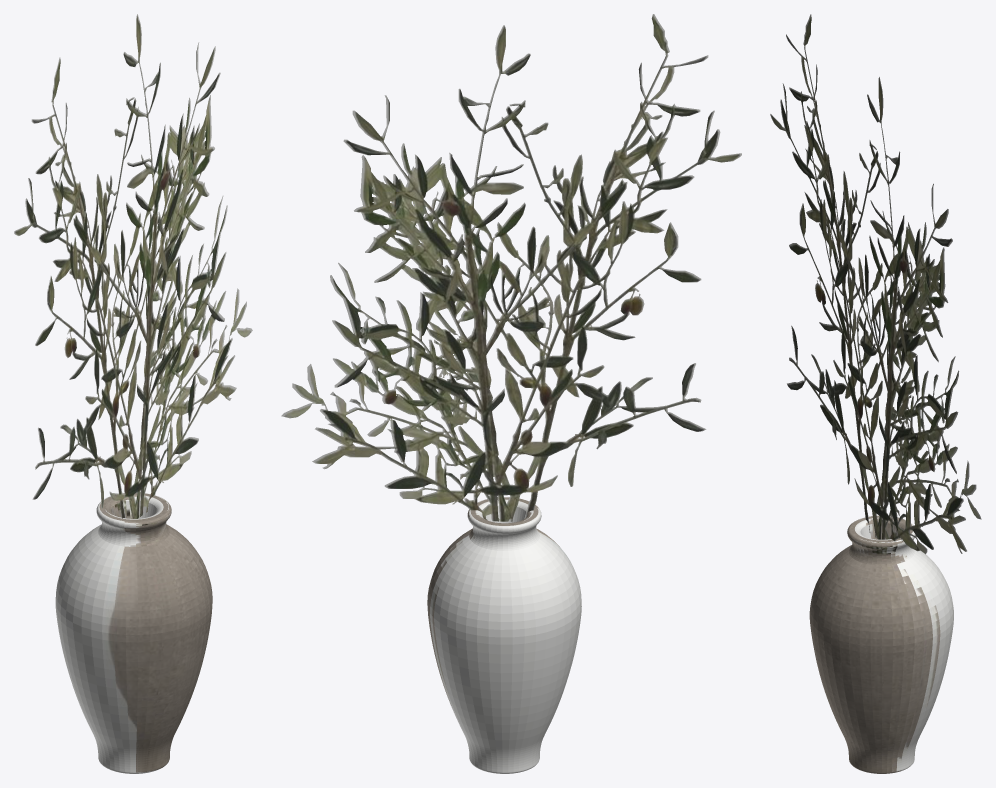
The model's file is flower_pot_12.glb.
3 renders of one model, left to right at view 1: azimuth 30°, elevation 25°; view 2: azimuth 150°, elevation 25°; view 3: azimuth 270°, elevation 25°, orthographic. The views are drawn at different scales.
Parts seen in each view (by area): view 1: mesh_0_ROOT__Plant__plant_04.dxf_Layer0, mesh_1_ROOT__Base_Layer0_227_227_222_ss; view 2: mesh_0_ROOT__Plant__plant_04.dxf_Layer0, mesh_1_ROOT__Base_Layer0_227_227_222_ss; view 3: mesh_0_ROOT__Plant__plant_04.dxf_Layer0, mesh_1_ROOT__Base_Layer0_227_227_222_ss.
Boxes of the visible parts, box(x1,y1,x2,y2) form: mesh_0_ROOT__Plant__plant_04.dxf_Layer0: box(14, 14, 252, 518); mesh_1_ROOT__Base_Layer0_227_227_222_ss: box(55, 492, 212, 773); mesh_0_ROOT__Plant__plant_04.dxf_Layer0: box(281, 14, 741, 521); mesh_1_ROOT__Base_Layer0_227_227_222_ss: box(427, 497, 581, 773); mesh_0_ROOT__Plant__plant_04.dxf_Layer0: box(770, 14, 981, 554); mesh_1_ROOT__Base_Layer0_227_227_222_ss: box(809, 515, 953, 773).
Bounding box in the file's own units: 1702 × 3484 × 958.
Materials: 4 (2 with a texture image).
